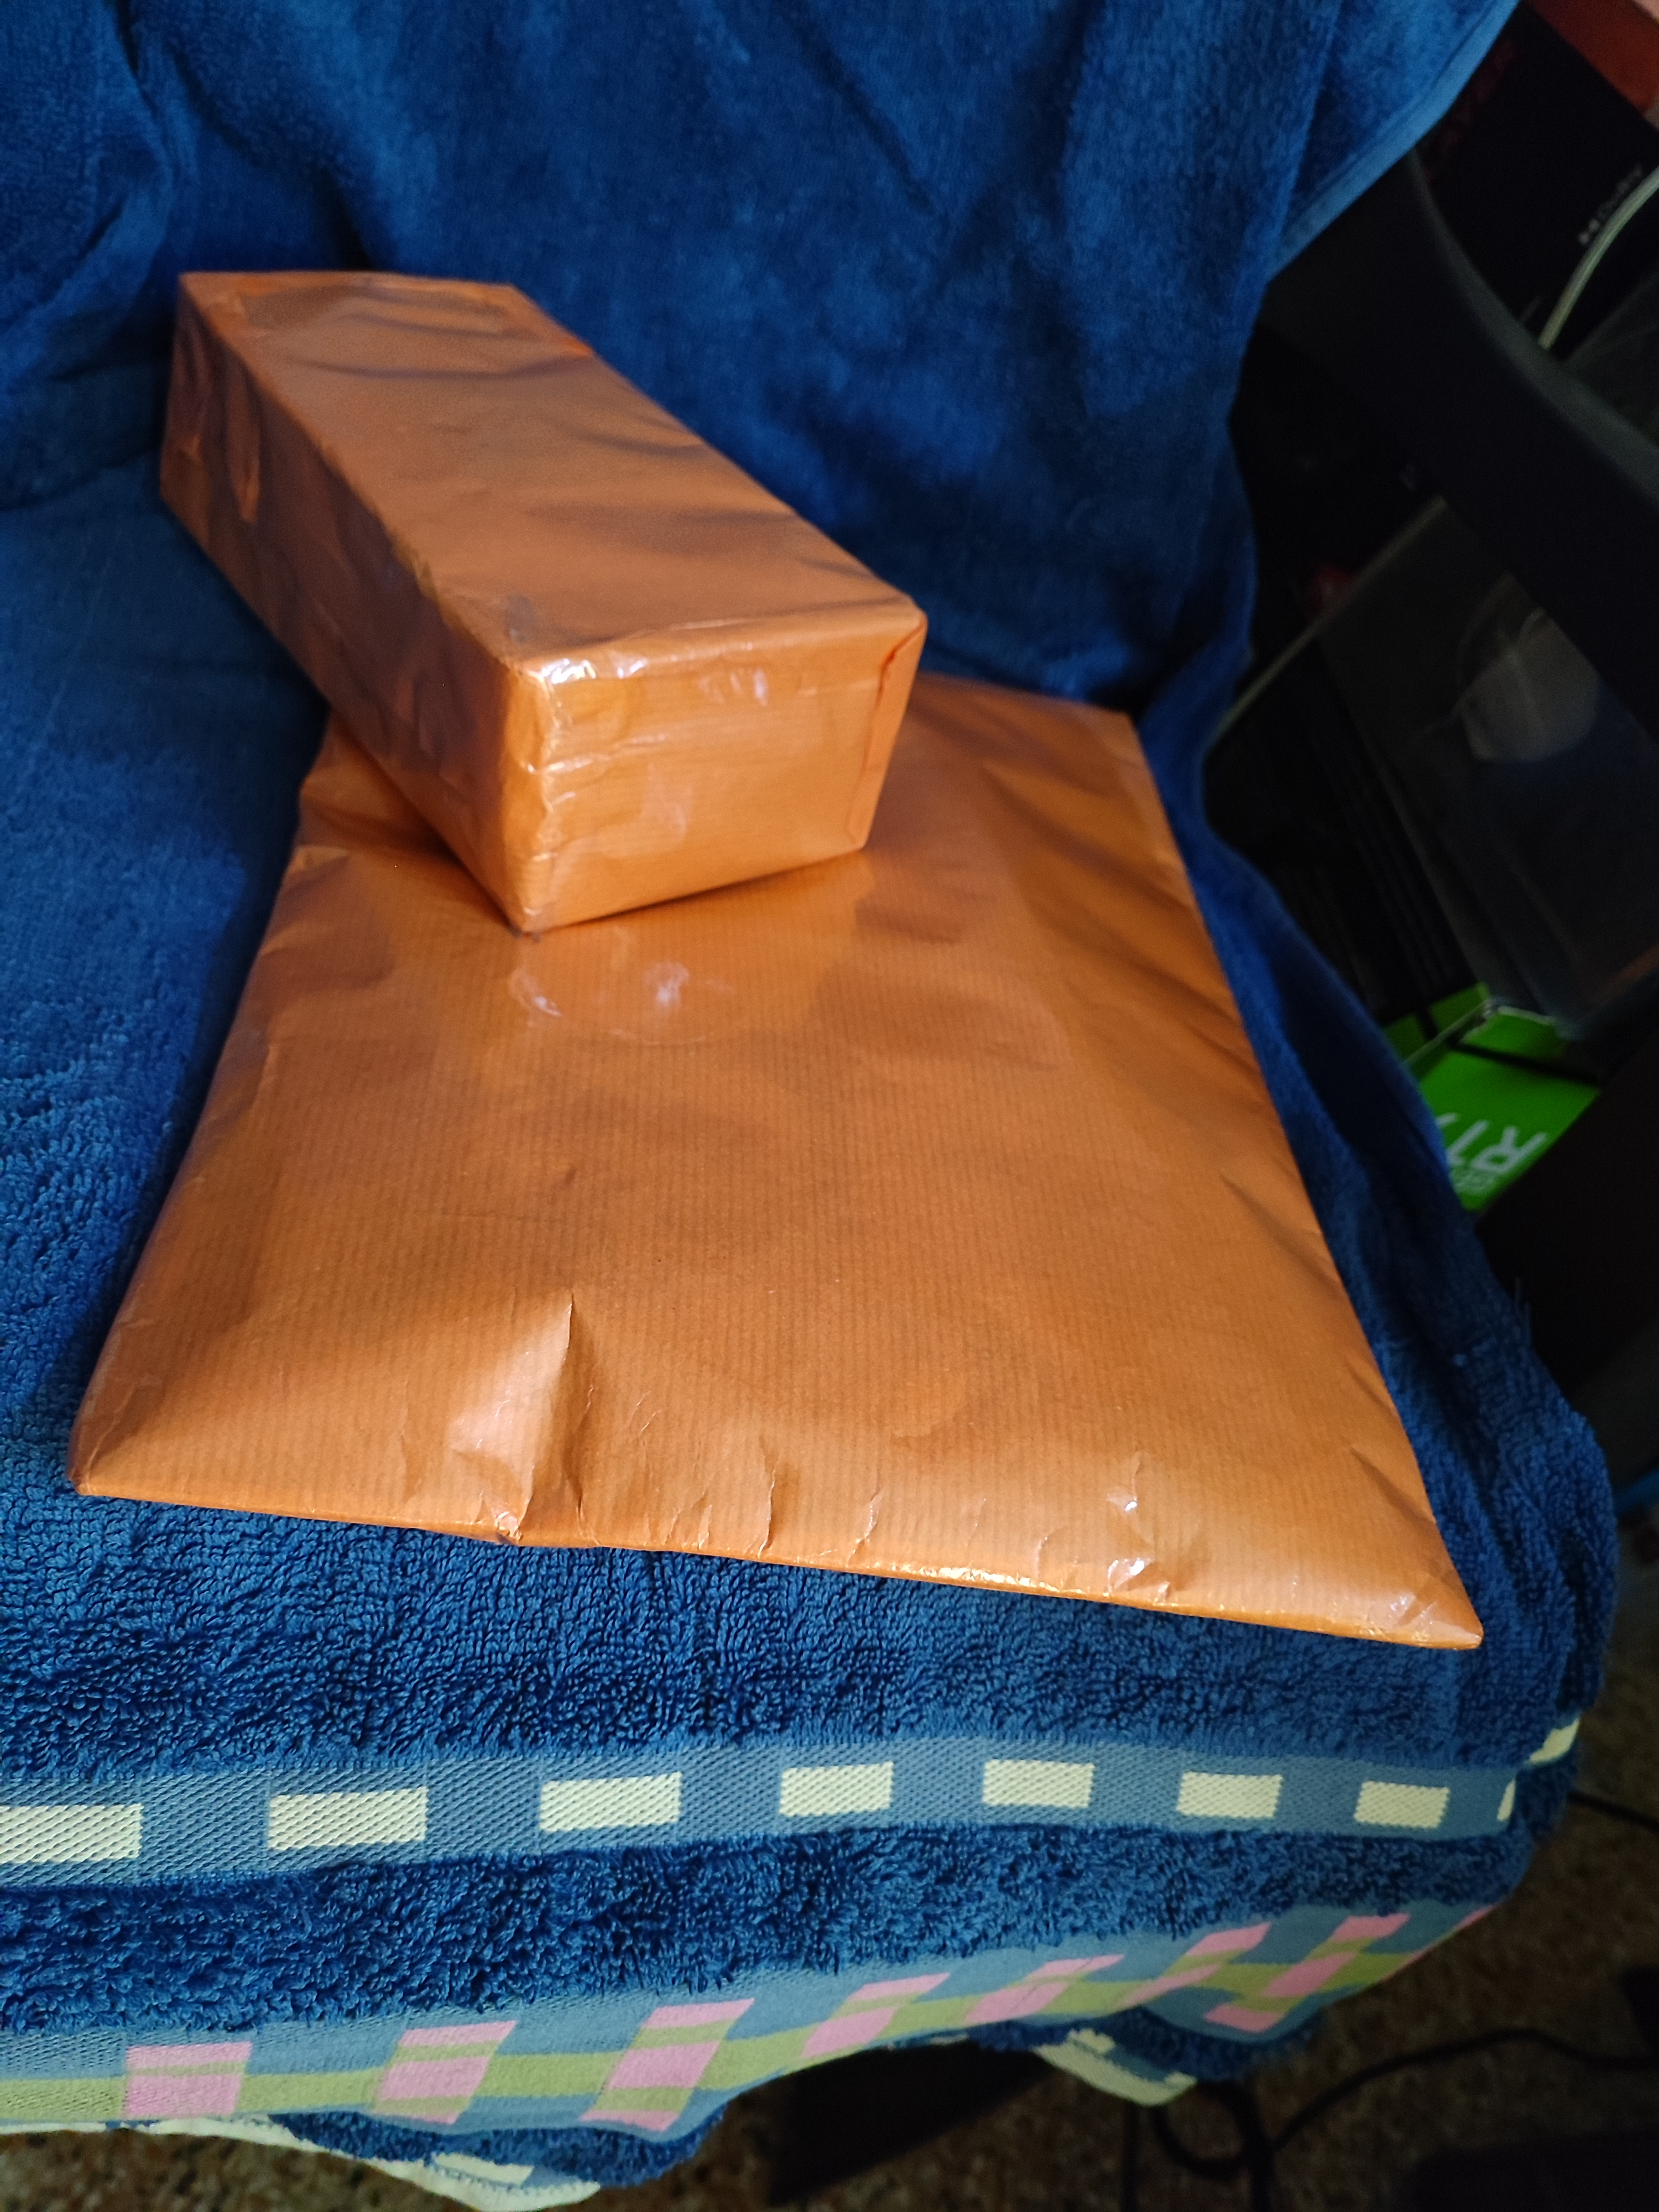Box: (47, 564, 1371, 1803), (129, 188, 999, 1047)
